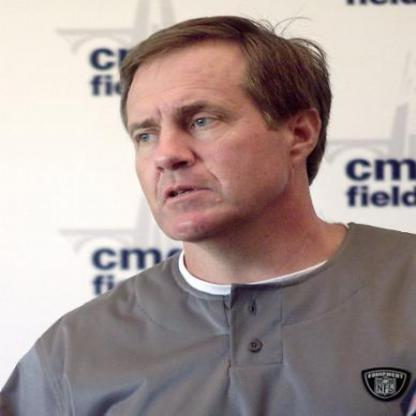face: (107, 30, 292, 246)
